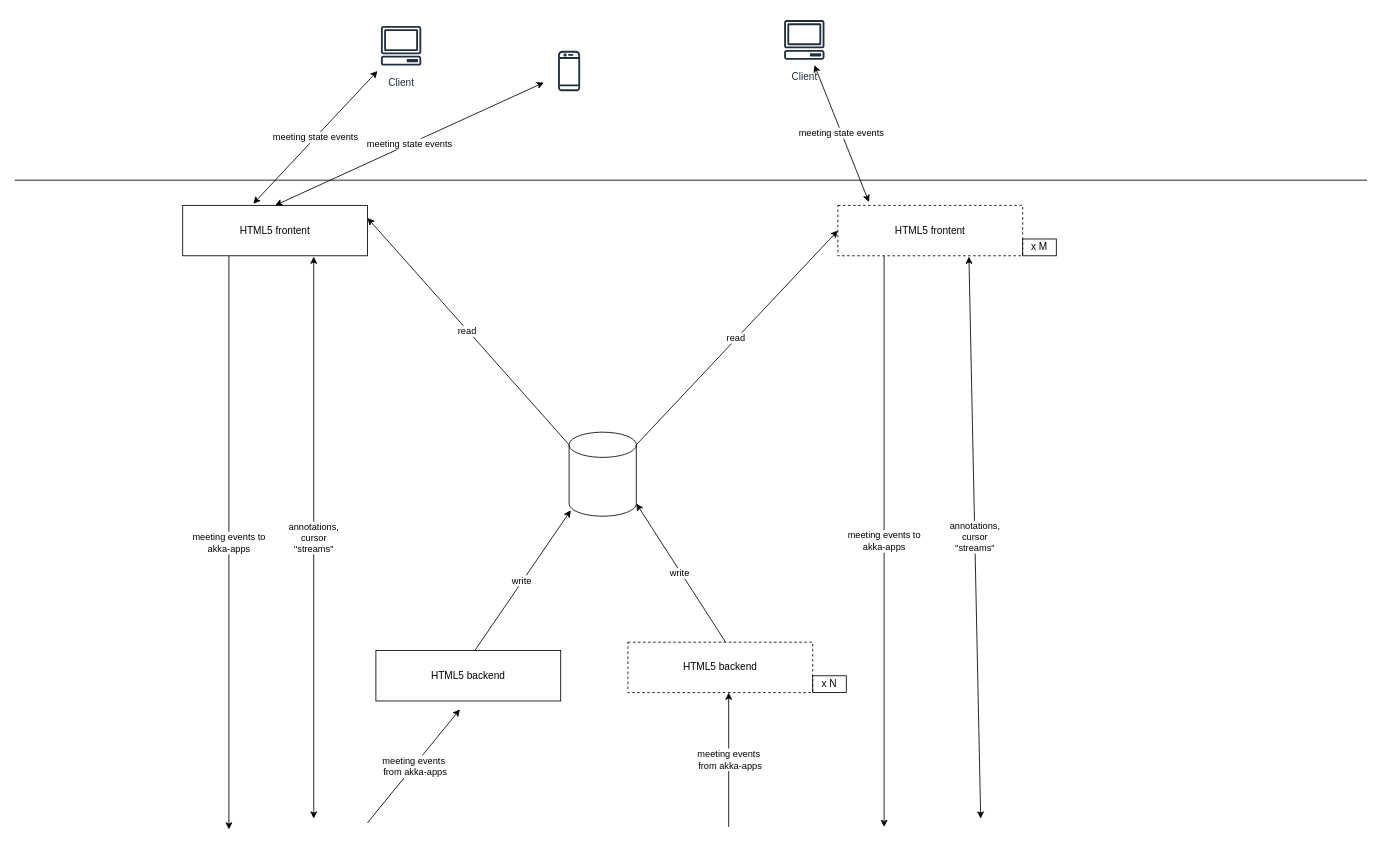
This 1383x851 diagram has some shape labels left out. The box of each missing label's shape, as (x1, y1, x2, y2) in pixels:
Mobile client: (543, 45, 594, 96)
MongoDB: (568, 431, 636, 516)
